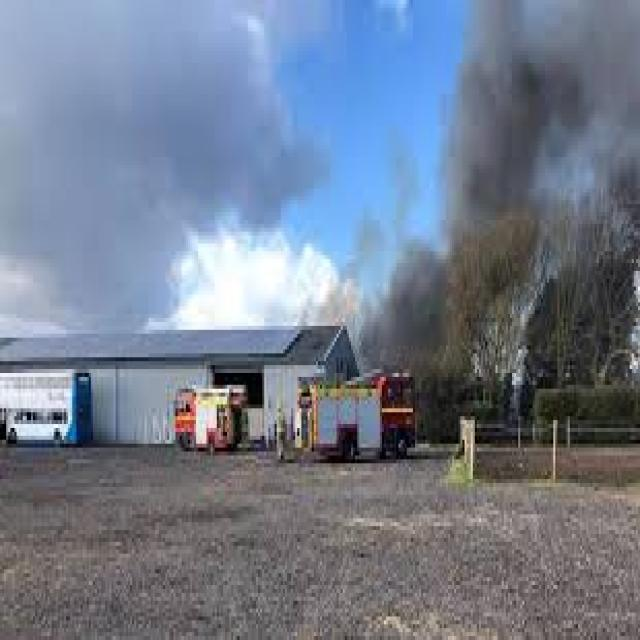smoke: (448, 1, 640, 195)
